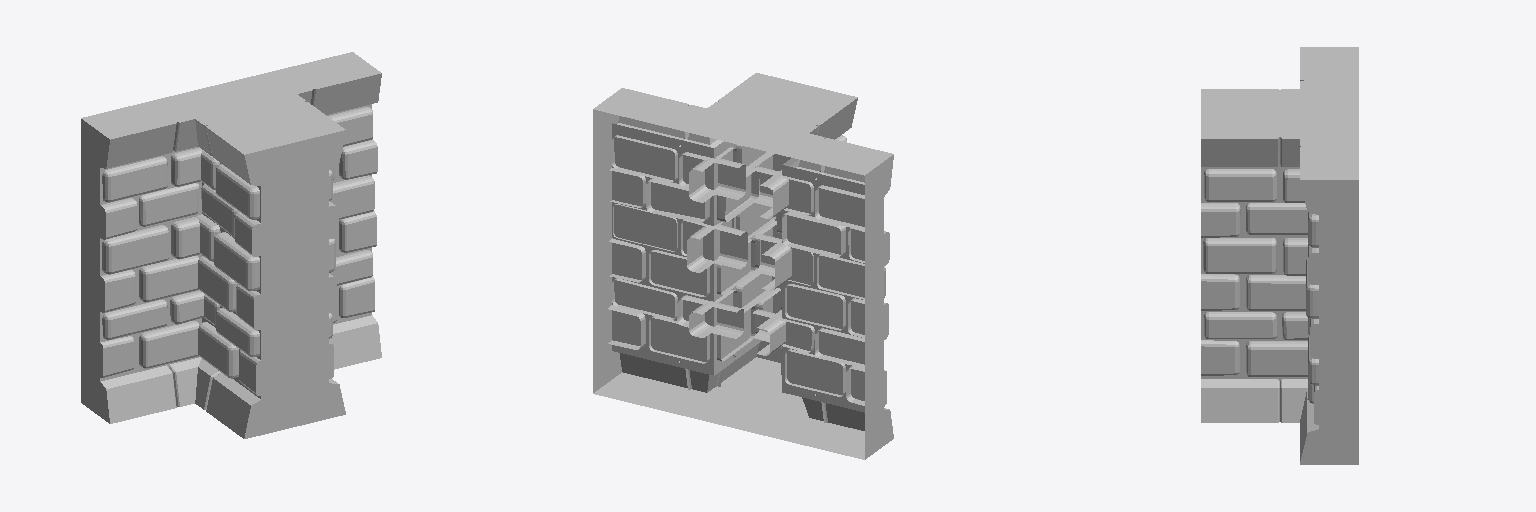
The model's file is wallSingle_split.obj.
3 renders of one model, left to right at view 1: azimuth 30°, elevation 25°; view 2: azimuth 150°, elevation 25°; view 3: azimuth 270°, elevation 25°, orthographic.
Parts seen in each view (by area): view 1: wallSingle_split_Cube.2626; view 2: wallSingle_split_Cube.2626; view 3: wallSingle_split_Cube.2626.
Part boxes in pixels (left/top/right/bottom): wallSingle_split_Cube.2626: left=81, top=52, right=381, bottom=438; wallSingle_split_Cube.2626: left=593, top=73, right=893, bottom=459; wallSingle_split_Cube.2626: left=1201, top=47, right=1358, bottom=464.
Bounding box in the file's own units: 4 × 4 × 2.